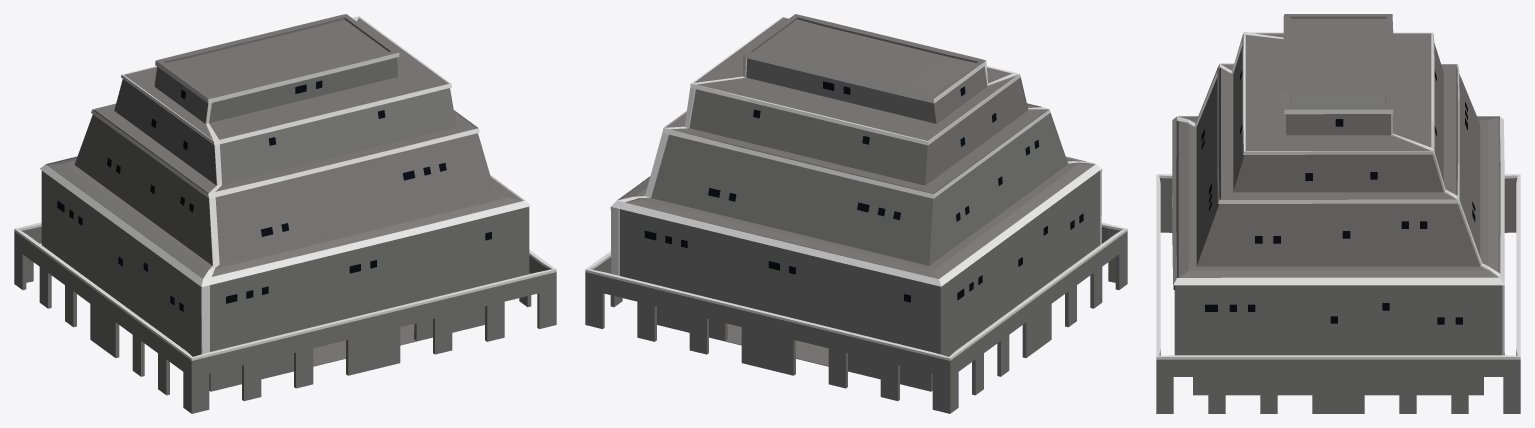
The model's file is large_building_01.fbx.
The picture shows the model from 3 angles, left to right: view 1: azimuth 30°, elevation 25°; view 2: azimuth 150°, elevation 25°; view 3: azimuth 270°, elevation 25°; orthographic projection. The views are drawn at different scales.
Visible parts, largest first — view 1: Main Building, Courtyard, Outline, Windows, Floor; view 2: Main Building, Courtyard, Outline, Windows, Floor; view 3: Main Building, Courtyard, Outline, Windows.
Boxes of the visible parts, <box> form: Main Building: <box>41,15,529,391</box>; Courtyard: <box>14,222,556,413</box>; Outline: <box>40,14,530,354</box>; Windows: <box>57,80,491,311</box>; Floor: <box>313,323,416,366</box>; Main Building: <box>619,15,1100,391</box>; Courtyard: <box>585,222,1127,413</box>; Outline: <box>610,14,1102,286</box>; Windows: <box>644,81,1083,302</box>; Floor: <box>725,323,828,366</box>; Main Building: <box>1174,14,1502,395</box>; Courtyard: <box>1156,174,1520,413</box>; Outline: <box>1172,14,1504,355</box>; Windows: <box>1173,69,1475,324</box>.
Size of the model in its own units: 6.67 by 5.62 by 4.37.
